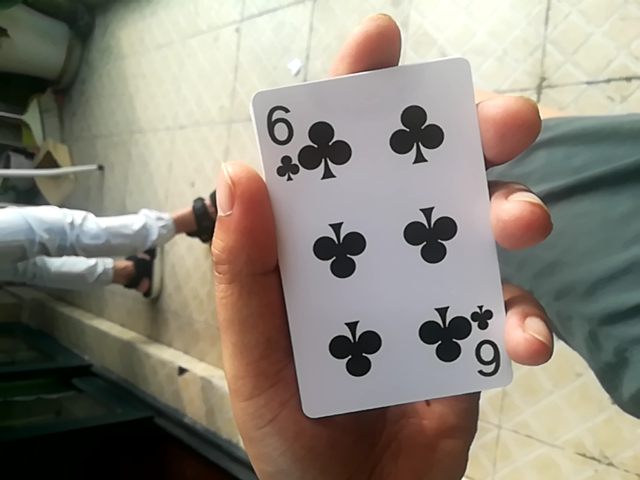mh 6: (255, 59, 533, 423)
